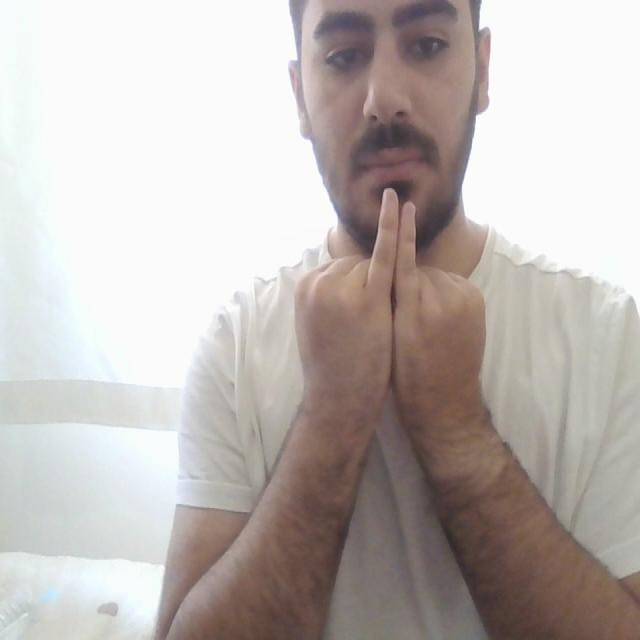Kardes: (286, 183, 490, 446)
